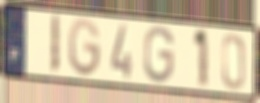0: (220, 32, 246, 91)
1: (192, 28, 210, 90)
4: (110, 23, 134, 80)
G: (67, 16, 103, 79), (142, 24, 176, 85)
I: (48, 13, 61, 77)
